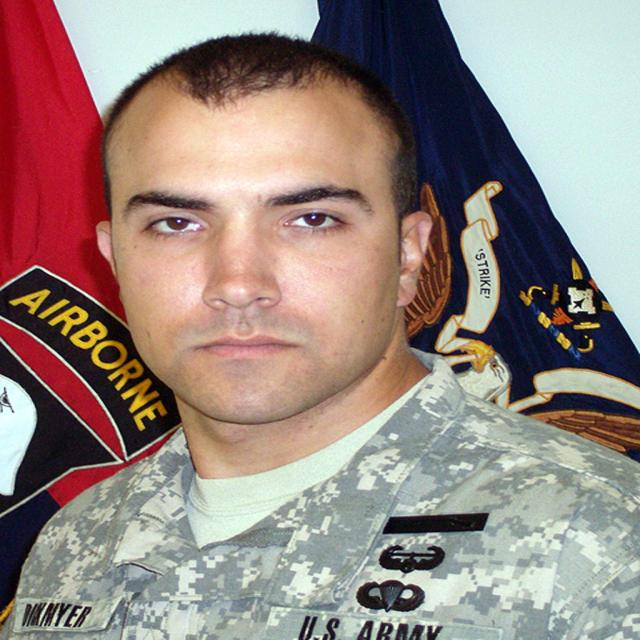Face: (99, 92, 387, 425)
